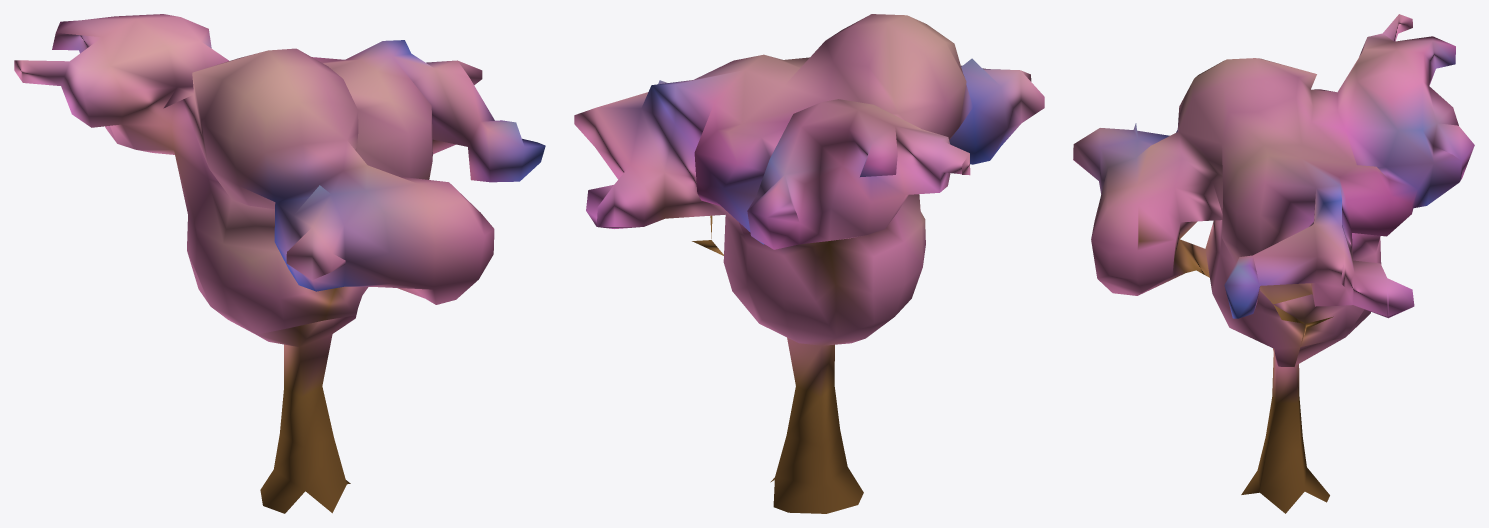
Rendered from canopy-tree-233-lod3.obj.
3 renders of one model, left to right at view 1: azimuth 30°, elevation 25°; view 2: azimuth 150°, elevation 25°; view 3: azimuth 270°, elevation 25°, orthographic. The views are drawn at different scales.
Visible parts, largest first — view 1: simplified; view 2: simplified; view 3: simplified.
Boxes of the visible parts, x1=… form: simplified: x1=14, y1=14, x2=545, y2=513; simplified: x1=574, y1=14, x2=1044, y2=513; simplified: x1=1073, y1=14, x2=1474, y2=513.
Size of the model in its own units: 468 by 491 by 432.
